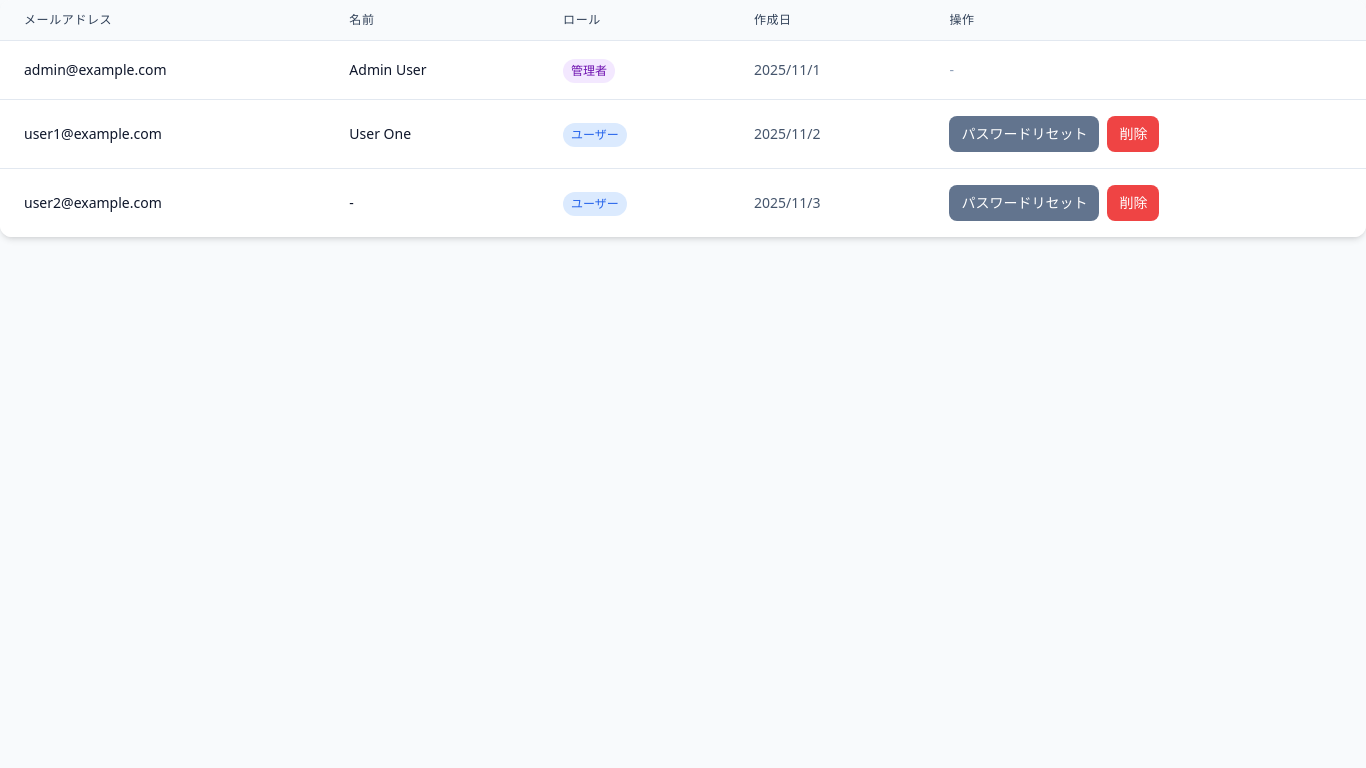
Test: UserList › Delete Functionality › should show confirmation dialog when delete button is clicked
Click the button "削除" in the row of "user1@example.com": (1133, 134) left=1107, top=116, right=1159, bottom=152
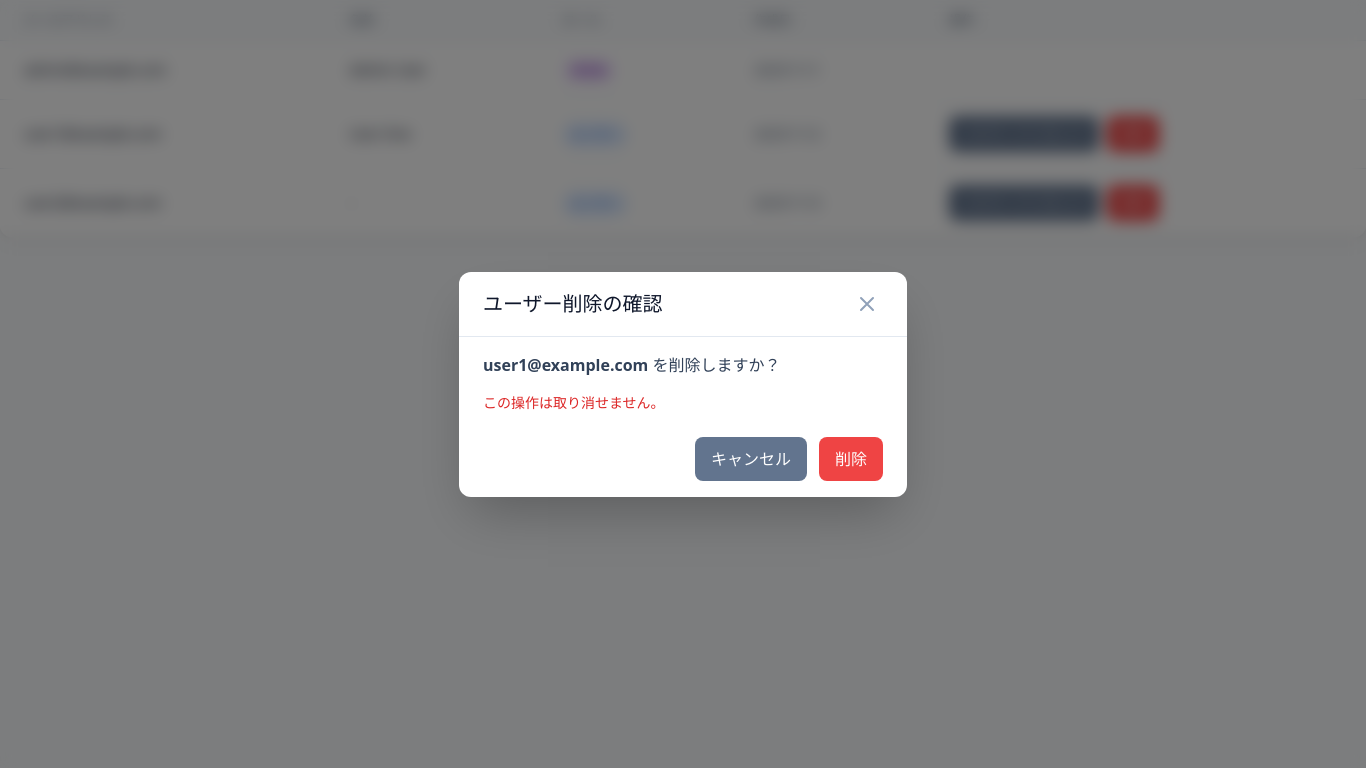
Expected: the dialog is shown
Expected: the heading "ユーザー削除の確認" is shown, left=483, top=290, right=663, bottom=318
Expected: the text "この操作は取り消せません。" is shown, left=483, top=392, right=665, bottom=412
